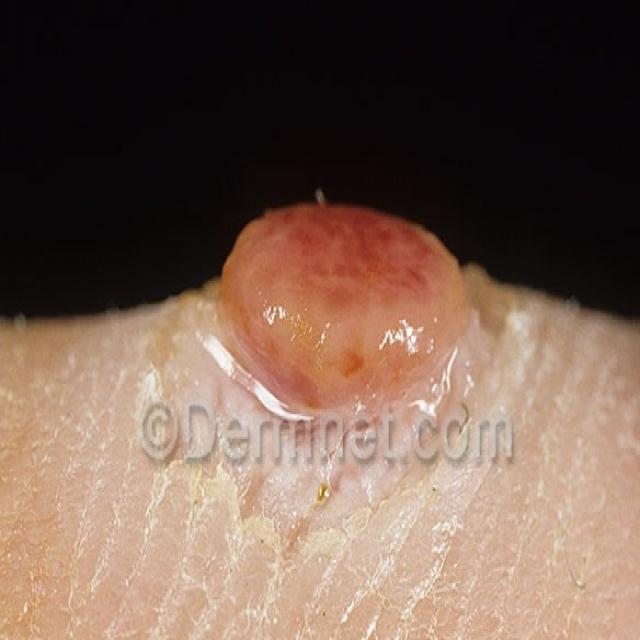Vascular Tumors: (193, 164, 537, 461)
